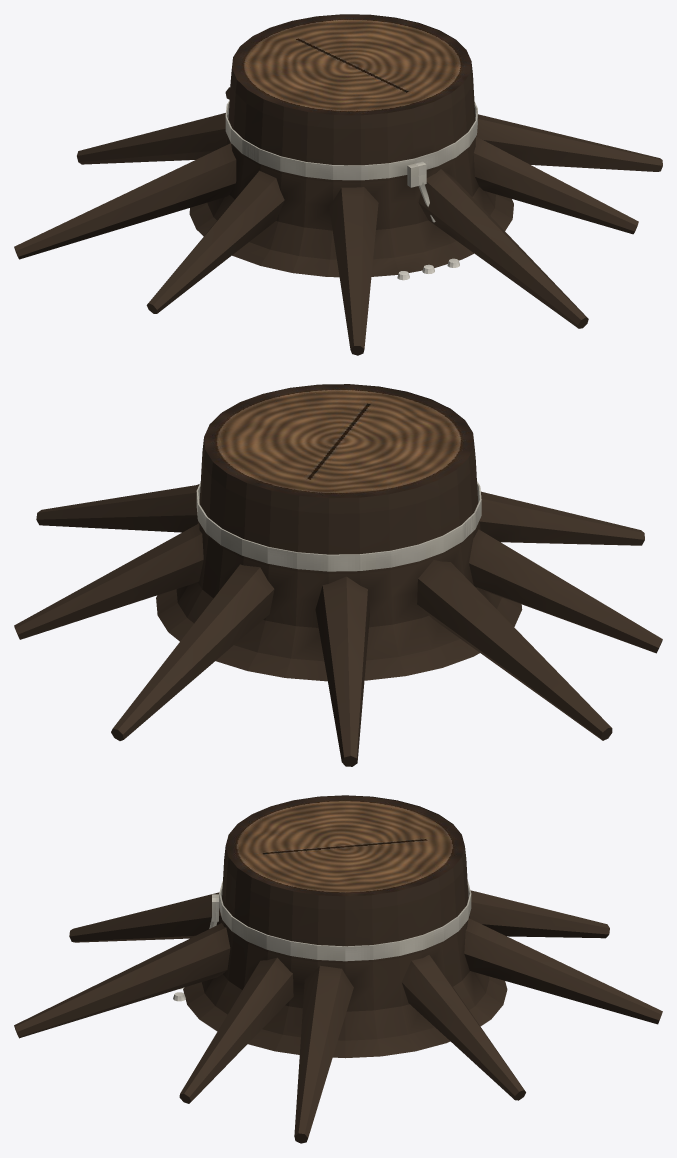
Rendered from az-stump.glb.
The picture shows the model from 3 angles, top to bottom: view 1: azimuth 30°, elevation 25°; view 2: azimuth 150°, elevation 25°; view 3: azimuth 270°, elevation 25°; orthographic projection. The views are drawn at different scales.
Visible parts, largest first — view 1: az-stump_az_bark, az-stump_az_rings, az-stump_az_cloth; view 2: az-stump_az_bark, az-stump_az_rings, az-stump_az_cloth; view 3: az-stump_az_bark, az-stump_az_rings, az-stump_az_cloth.
Part boxes in pixels (box(x1,y1,x2,y2)): az-stump_az_bark: box(14, 14, 662, 355); az-stump_az_rings: box(232, 15, 471, 115); az-stump_az_cloth: box(225, 100, 477, 222); az-stump_az_bark: box(14, 384, 662, 766); az-stump_az_rings: box(204, 384, 473, 498); az-stump_az_cloth: box(196, 481, 481, 571); az-stump_az_bark: box(14, 795, 662, 1143); az-stump_az_rings: box(225, 796, 464, 896); az-stump_az_cloth: box(209, 881, 471, 961).
Size of the model in its own units: 9.21 by 2.44 by 9.
Materials: 4 (2 with a texture image).
